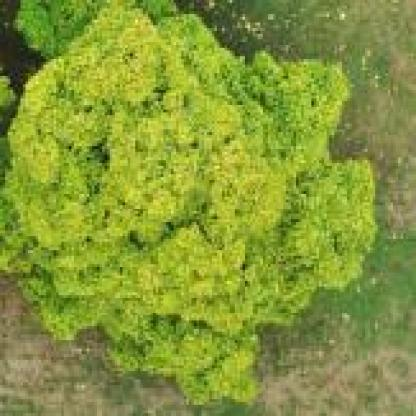Deciduous Tree: (0, 2, 385, 393)
